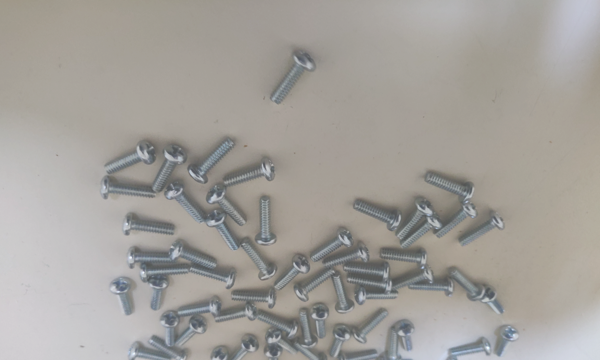shortscrew: (270, 51, 316, 106), (188, 137, 236, 184), (164, 181, 208, 224), (104, 140, 157, 175), (206, 184, 249, 227), (458, 211, 506, 248), (434, 200, 478, 239), (152, 144, 187, 193), (239, 239, 278, 281), (396, 198, 434, 241), (424, 172, 475, 204), (223, 157, 277, 187), (400, 212, 442, 249), (310, 228, 354, 263), (353, 200, 402, 231), (206, 209, 241, 252), (294, 267, 336, 302), (169, 240, 219, 269), (100, 175, 156, 200), (274, 254, 311, 291), (351, 308, 389, 344), (322, 241, 370, 268), (449, 267, 486, 302), (189, 263, 236, 290), (122, 213, 176, 236), (257, 310, 299, 339), (256, 196, 277, 248), (379, 248, 428, 270), (176, 315, 208, 348), (139, 262, 189, 283), (391, 267, 435, 290), (347, 273, 393, 295), (127, 247, 170, 270), (343, 261, 390, 282), (148, 336, 189, 360), (178, 297, 222, 319), (265, 327, 299, 355), (333, 271, 355, 314), (232, 289, 277, 309), (109, 277, 132, 316), (409, 279, 454, 298), (496, 324, 521, 358), (450, 338, 492, 358), (216, 303, 258, 323), (355, 287, 399, 306), (129, 341, 171, 360), (229, 334, 259, 360), (298, 310, 318, 349), (148, 275, 169, 311), (330, 325, 352, 359), (293, 340, 329, 360), (310, 303, 330, 339), (160, 312, 180, 347), (481, 287, 505, 316), (395, 320, 415, 352), (339, 349, 379, 360), (211, 346, 236, 360), (265, 344, 283, 360), (434, 356, 459, 360), (377, 359, 417, 360)
